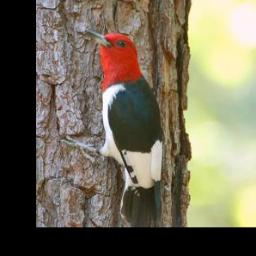Woodpecker: (59, 29, 165, 225)
